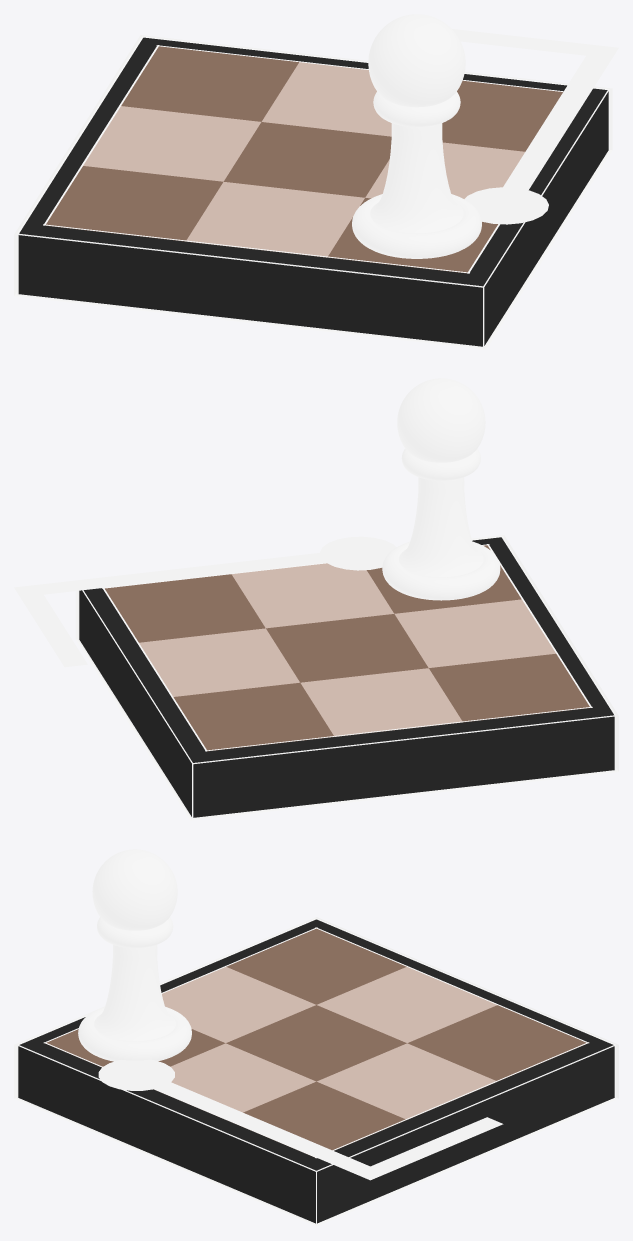
The model's file is ghost-morph.glb.
The picture shows the model from 3 angles, top to bottom: view 1: azimuth 30°, elevation 25°; view 2: azimuth 150°, elevation 25°; view 3: azimuth 270°, elevation 25°; orthographic projection. The views are drawn at different scales.
Parts seen in each view (by area): view 1: Board_Tiles, Board_Slab, Ghost_Tail_Baked, Board_Wire, Pawn_Base_Baked, Found_Leg_A, Found_Dot, Ghost_Collar_Baked, Board_Inner, Found_Leg_B, Board_Base; view 2: Board_Tiles, Board_Slab, Ghost_Tail_Baked, Found_Leg_A, Pawn_Base_Baked, Board_Wire, Found_Leg_B, Found_Dot, Board_Inner, Ghost_Collar_Baked, Board_Base; view 3: Board_Tiles, Board_Slab, Ghost_Tail_Baked, Board_Wire, Found_Leg_A, Pawn_Base_Baked, Found_Dot, Found_Leg_B, Board_Inner, Ghost_Collar_Baked, Board_Base.
Boxes of the visible parts, x1,y1,x2,y2 form: Board_Tiles: [45, 46, 562, 273]; Board_Slab: [14, 35, 612, 349]; Ghost_Tail_Baked: [368, 14, 465, 233]; Board_Wire: [17, 36, 609, 348]; Pawn_Base_Baked: [352, 194, 481, 258]; Found_Leg_A: [503, 45, 618, 189]; Found_Dot: [464, 187, 548, 224]; Ghost_Collar_Baked: [373, 91, 460, 126]; Board_Inner: [43, 45, 563, 273]; Found_Leg_B: [452, 29, 617, 58]; Board_Base: [44, 224, 500, 275]; Board_Tiles: [105, 545, 590, 751]; Board_Slab: [75, 535, 618, 820]; Ghost_Tail_Baked: [397, 378, 485, 577]; Found_Leg_A: [14, 547, 373, 594]; Pawn_Base_Baked: [382, 541, 500, 600]; Board_Wire: [78, 536, 616, 819]; Found_Leg_B: [15, 585, 87, 667]; Found_Dot: [320, 536, 396, 570]; Board_Inner: [102, 544, 592, 751]; Ghost_Collar_Baked: [401, 448, 480, 480]; Board_Base: [103, 590, 591, 752]; Board_Tiles: [45, 928, 587, 1157]; Board_Slab: [14, 917, 618, 1226]; Ghost_Tail_Baked: [92, 849, 177, 1041]; Board_Wire: [17, 918, 615, 1224]; Found_Leg_A: [132, 1068, 378, 1180]; Pawn_Base_Baked: [78, 1006, 191, 1061]; Found_Dot: [98, 1059, 174, 1090]; Found_Leg_B: [366, 1117, 503, 1179]; Board_Inner: [43, 927, 589, 1158]; Ghost_Collar_Baked: [97, 917, 173, 948]; Board_Base: [44, 1044, 588, 1159].
Size of the model in its own units: 3.76 by 1.58 by 3.54.
